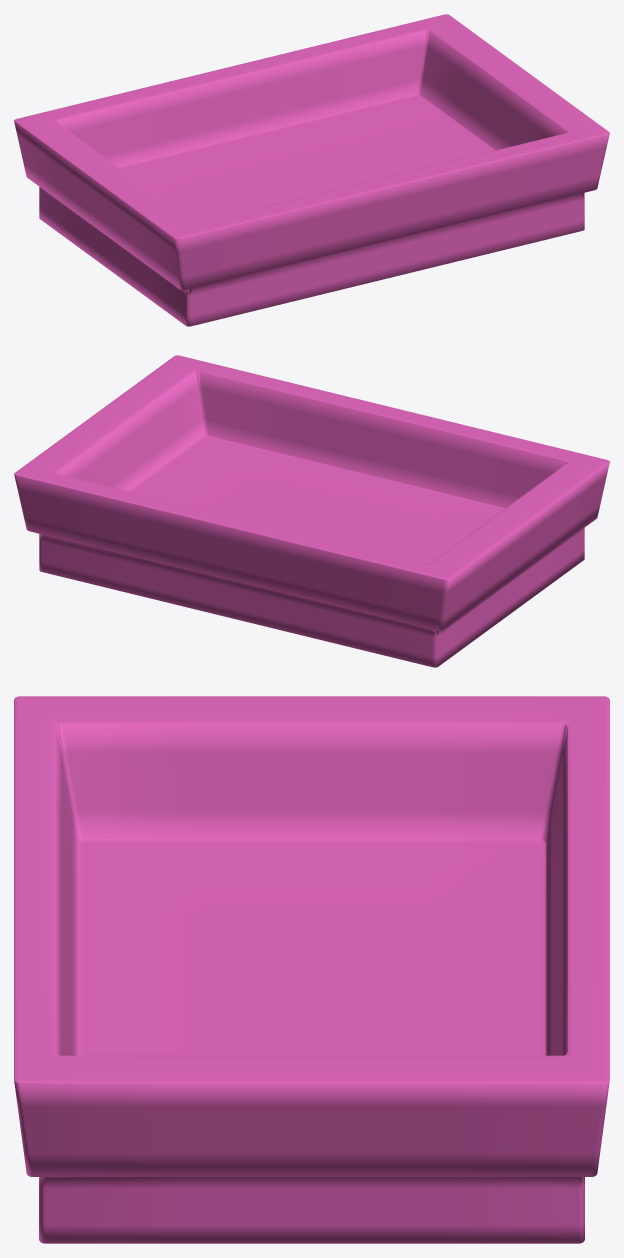
The model's file is cat bet ver1.fbx.
3 views of the same model, one above another, from view 1: azimuth 30°, elevation 25°; view 2: azimuth 150°, elevation 25°; view 3: azimuth 270°, elevation 25° (orthographic). The views are drawn at different scales.
Visible parts, largest first — view 1: Cube; view 2: Cube; view 3: Cube.
Boxes of the visible parts, x1,y1,x2,y2 form: Cube: (14, 14, 609, 326); Cube: (14, 355, 609, 667); Cube: (14, 696, 609, 1243).
Bounding box in the file's own units: 218 × 46.93 × 142.
